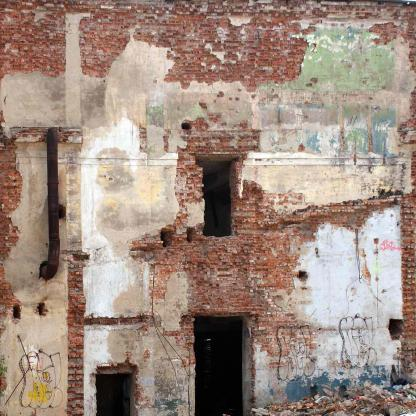Building Outline: (1, 0, 415, 415)
Door: (195, 315, 252, 416)
Facade: (1, 0, 415, 415)
Floor: (2, 111, 416, 264), (2, 0, 416, 104)
Floor Slab: (2, 104, 416, 111), (2, 264, 416, 271)
Ground Floor: (2, 271, 416, 415)
Window: (195, 153, 240, 236), (95, 373, 135, 416)
